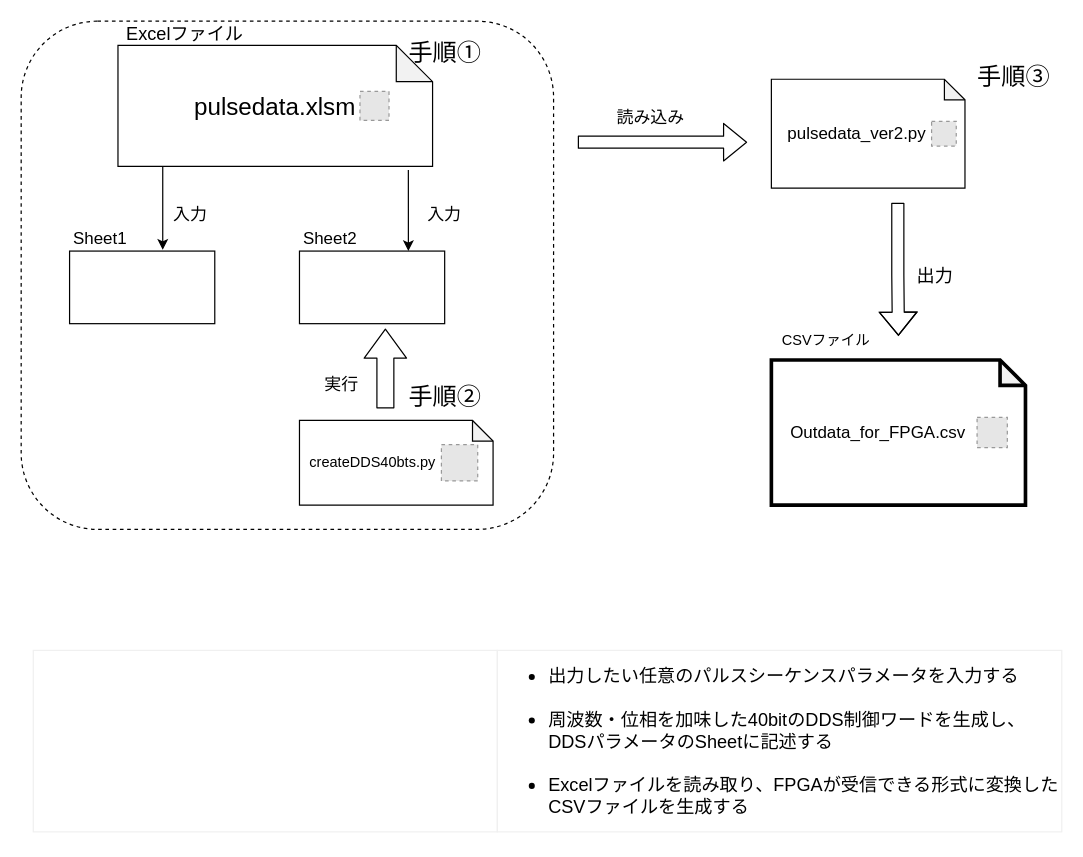
The diagram is 1083 pixels wide and 857 high, and some of its shapes have lost their labels. Grey dashed boxes stand in for pictures. Each missing label, with the centre of its shape:
DDSパラメータ: point (371, 287)
Pulseパラメータ: point (141, 287)
① シーケンスパラメータを入力する ② createDDS40bits.py の実行 ③ pulsedata_ver2.py の実行: point (264, 740)
